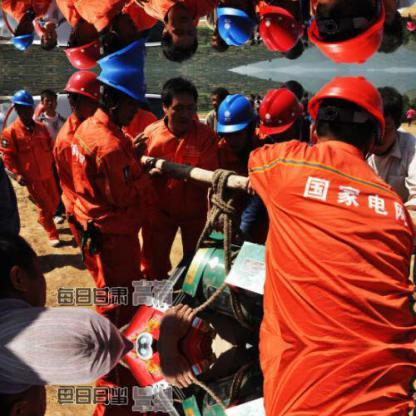head: (0, 225, 54, 310), (159, 74, 205, 130), (159, 6, 205, 62), (376, 81, 404, 152), (0, 378, 55, 414), (376, 0, 405, 56), (38, 86, 57, 114), (38, 22, 57, 50)
helmet: (305, 71, 390, 155), (304, 0, 390, 66), (96, 69, 150, 124), (96, 13, 150, 68), (215, 90, 258, 149), (255, 84, 301, 133), (255, 4, 301, 53), (59, 70, 103, 120), (59, 16, 103, 66), (214, 0, 258, 47), (9, 86, 33, 117), (9, 20, 33, 51)
